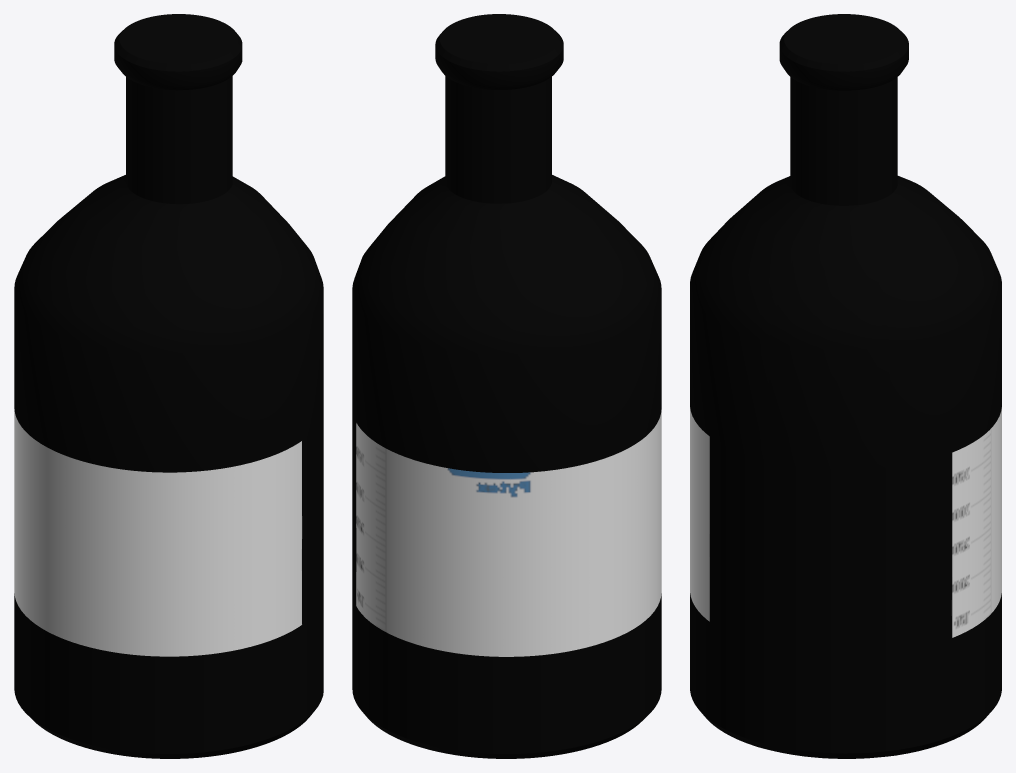
The model's file is BOTTLE WITH WATER.fbx.
The picture shows the model from 3 angles, left to right: view 1: azimuth 30°, elevation 25°; view 2: azimuth 150°, elevation 25°; view 3: azimuth 270°, elevation 25°; orthographic projection.
Parts seen in each view (by area): view 1: Line002; view 2: Line002; view 3: Line002.
Part boxes in pixels (bbox=[...]): Line002: bbox=[14, 14, 323, 758]; Line002: bbox=[352, 14, 661, 758]; Line002: bbox=[690, 14, 1001, 758].
Size of the model in its own units: 2.07 by 4.87 by 2.08.
